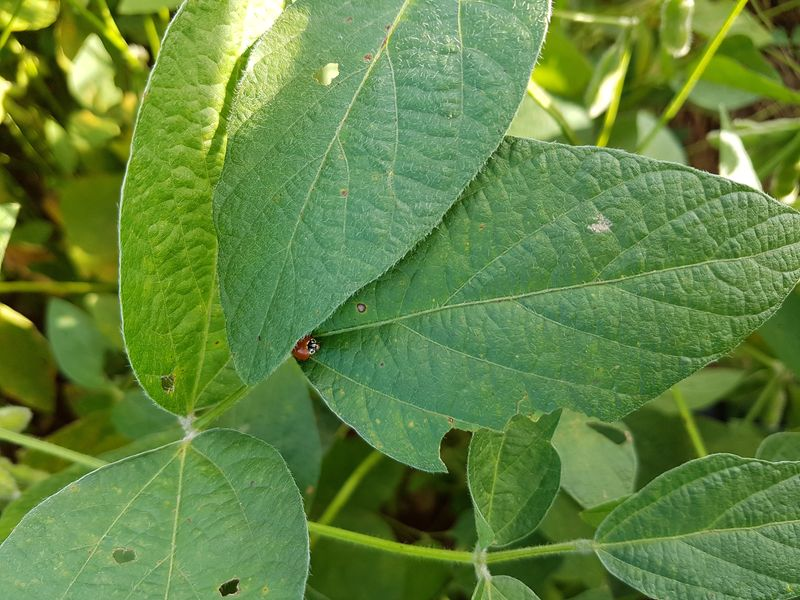Coccinellidae: (278, 326, 329, 374)
